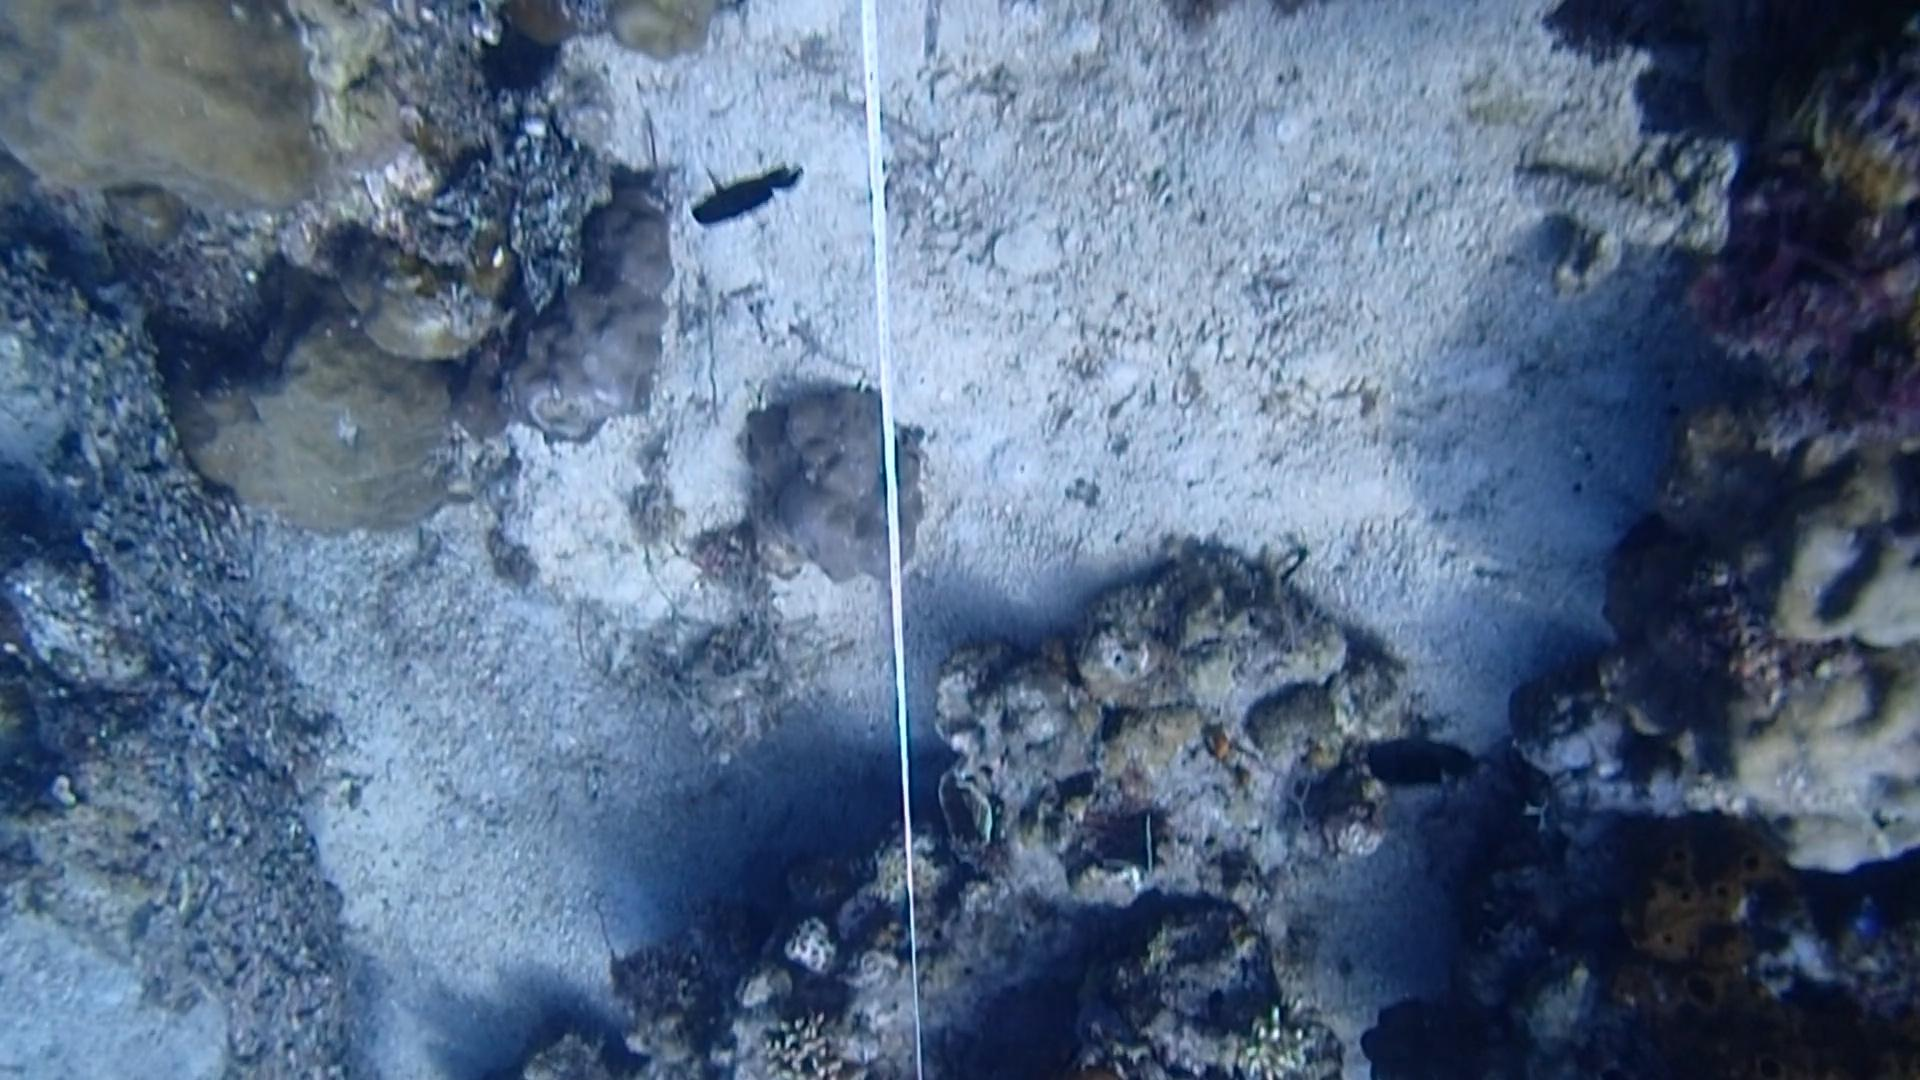Big Dark Blue Fish: (1358, 727, 1491, 810)
Dark Fish: (678, 158, 814, 239)
